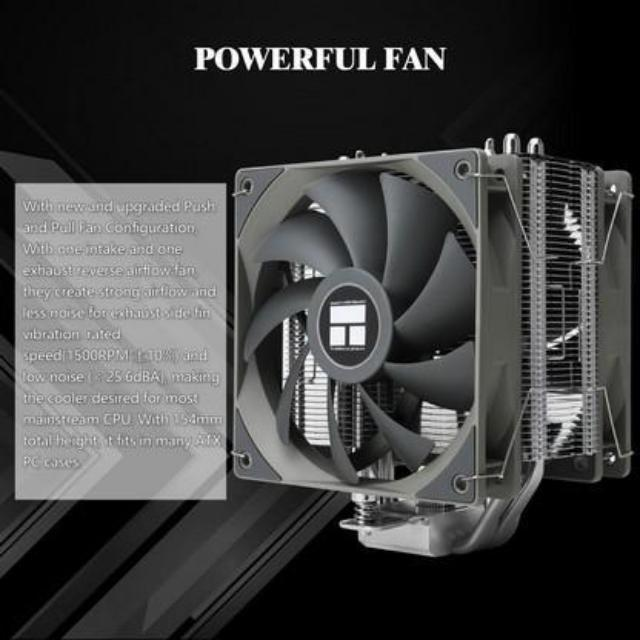CPU_Fan: (234, 139, 628, 553)
